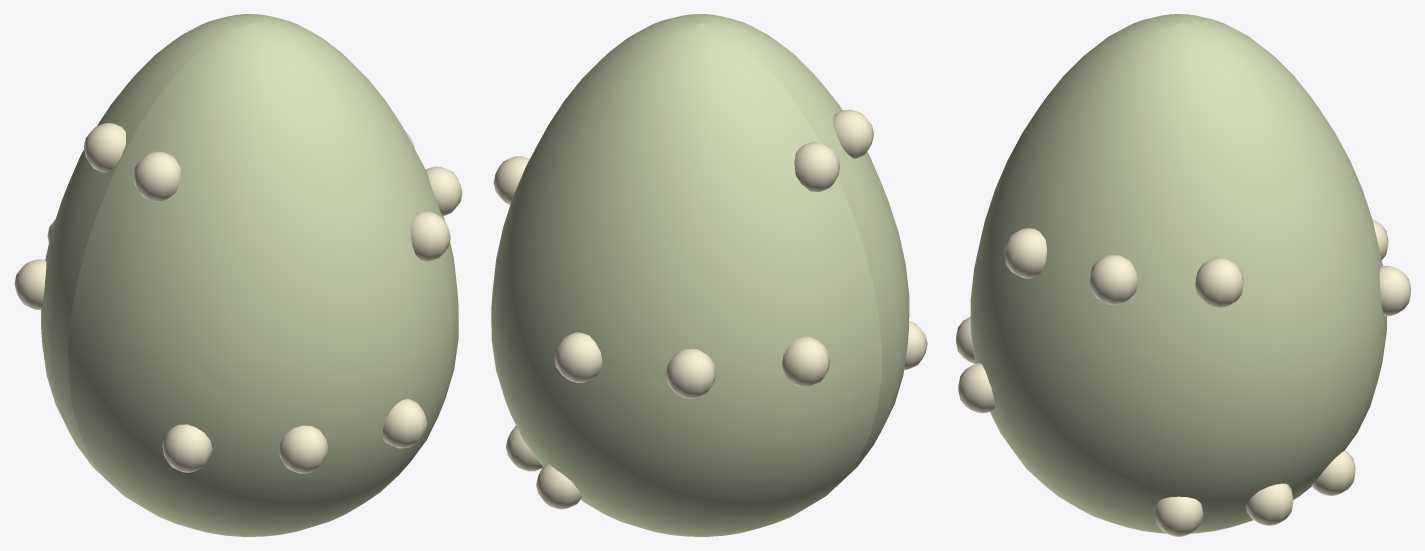
File: mystery-egg.glb
The picture shows the model from 3 angles, left to right: view 1: azimuth 30°, elevation 25°; view 2: azimuth 150°, elevation 25°; view 3: azimuth 270°, elevation 25°; orthographic projection.
Parts seen in each view (by area): view 1: Mystery_Egg; view 2: Mystery_Egg; view 3: Mystery_Egg.
Part boxes in pixels (x1,y1,x2,y2): Mystery_Egg: (14,14,462,536); Mystery_Egg: (491,14,927,536); Mystery_Egg: (956,14,1410,536).
Size of the model in its own units: 0.2146 by 0.2772 by 0.2333.
